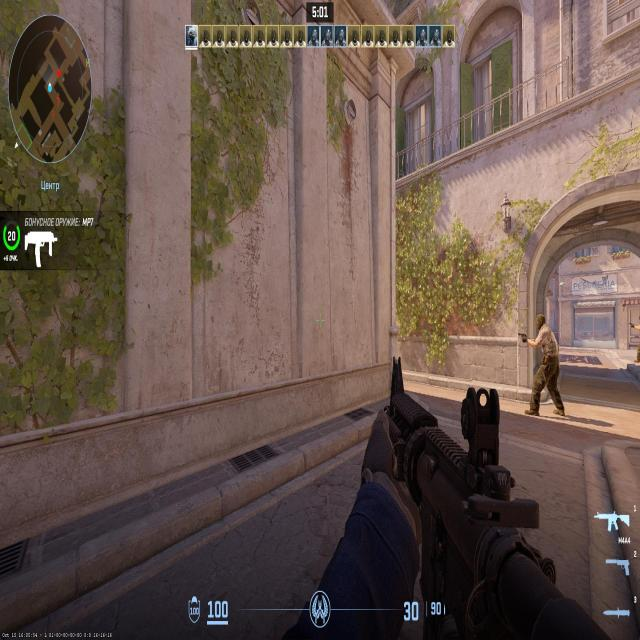T: (533, 320, 560, 418)
T_heat: (538, 317, 546, 328)
